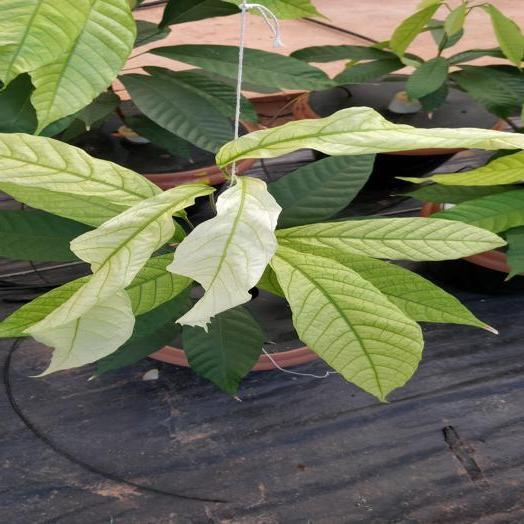Healthy Leaf: (122, 72, 232, 152), (96, 291, 188, 374), (268, 155, 374, 227), (182, 306, 263, 394), (0, 210, 91, 261), (146, 67, 233, 116), (452, 66, 523, 117), (242, 48, 330, 89), (150, 44, 236, 79), (334, 55, 403, 83), (291, 45, 395, 62), (407, 57, 446, 98), (244, 98, 255, 120)
Iron: (31, 184, 212, 334), (272, 247, 422, 400), (216, 107, 523, 168), (167, 177, 280, 330), (0, 133, 160, 225), (314, 248, 491, 329), (32, 0, 135, 130), (277, 217, 503, 260), (277, 217, 503, 259), (26, 291, 135, 376), (0, 0, 86, 84), (0, 277, 87, 337), (127, 254, 190, 315), (437, 189, 523, 232), (426, 151, 523, 185), (390, 4, 439, 56), (484, 5, 523, 66), (444, 4, 465, 36)
